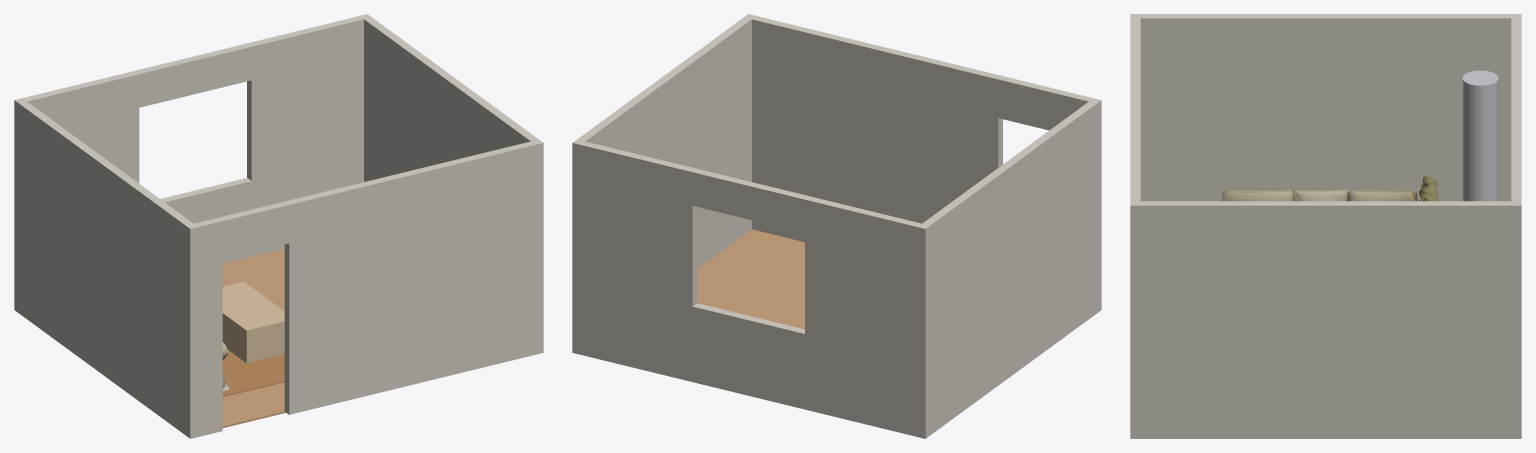
Rendered from salon_trellis.glb.
The picture shows the model from 3 angles, left to right: view 1: azimuth 30°, elevation 25°; view 2: azimuth 150°, elevation 25°; view 3: azimuth 270°, elevation 25°; orthographic projection. The views are drawn at different scales.
Parts seen in each view (by area): view 1: Mur_south, Mur_west, Mur_north, Mur_east, Sol, P2_table_basse, P1_tapis; view 2: Mur_north, Mur_south, Mur_west, Mur_east, Sol; view 3: Mur_east, Mur_west, P3_luminaire, Mur_north, Mur_south, P0_canape.
Boxes of the visible parts, bbox=[...] form: Mur_south: bbox=[186, 139, 543, 438]; Mur_west: bbox=[19, 101, 193, 435]; Mur_north: bbox=[14, 14, 371, 312]; Mur_east: bbox=[364, 17, 538, 181]; Sol: bbox=[222, 248, 285, 427]; P2_table_basse: bbox=[222, 281, 284, 363]; P1_tapis: bbox=[222, 349, 284, 396]; Mur_north: bbox=[572, 139, 929, 438]; Mur_south: bbox=[744, 14, 1101, 312]; Mur_west: bbox=[922, 101, 1096, 435]; Mur_east: bbox=[577, 17, 751, 268]; Sol: bbox=[697, 229, 804, 329]; Mur_east: bbox=[1140, 201, 1511, 438]; Mur_west: bbox=[1140, 14, 1511, 201]; P3_luminaire: bbox=[1462, 70, 1498, 201]; Mur_north: bbox=[1511, 14, 1521, 438]; Mur_south: bbox=[1130, 14, 1140, 438]; P0_canape: bbox=[1221, 175, 1437, 201].
Bounding box in the file's own units: 4.4 × 2.52 × 3.8.
6 materials, 1 textured.
